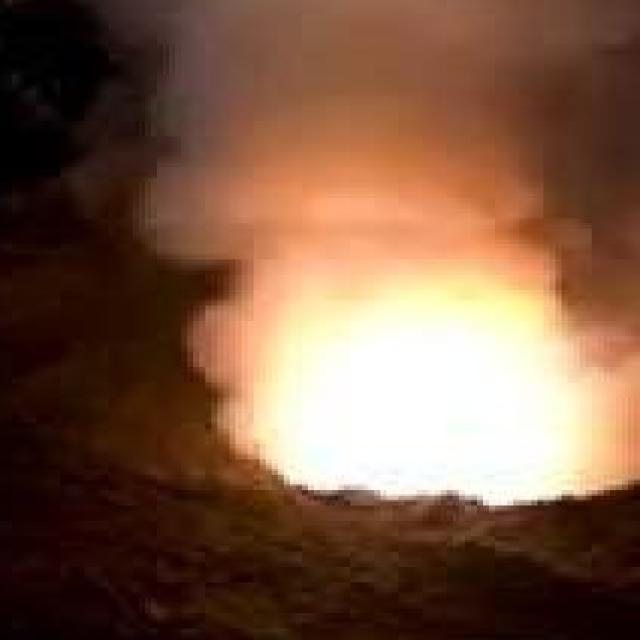Fire: (194, 258, 640, 500)
Smoke: (126, 0, 640, 258)
